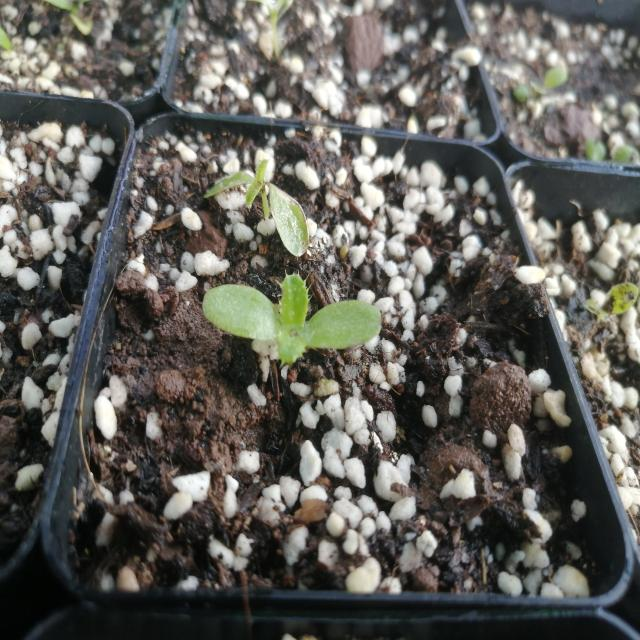field_thistle: (200, 249, 393, 392), (202, 144, 329, 273)
